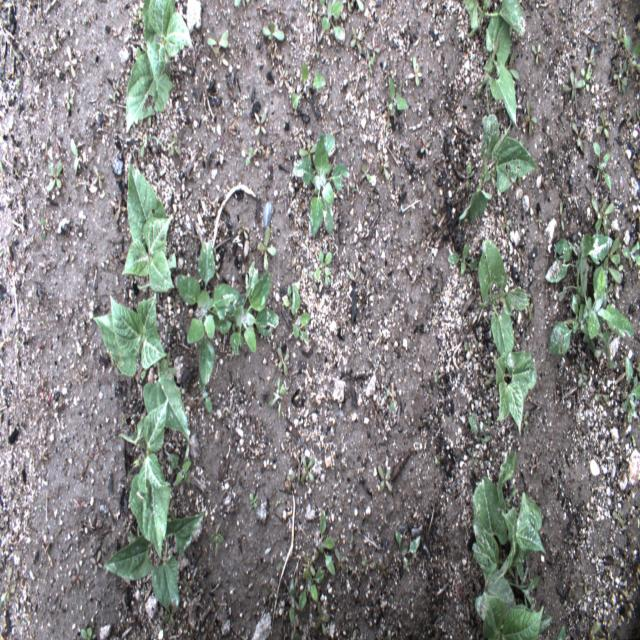crop: (90, 272, 200, 462), (471, 451, 559, 636), (101, 496, 206, 608), (456, 112, 543, 230), (123, 3, 200, 129), (120, 155, 177, 308), (121, 396, 173, 556), (477, 235, 531, 364), (493, 331, 539, 434)
weed: (170, 225, 246, 388), (541, 236, 632, 357), (460, 3, 534, 136), (221, 256, 285, 368), (294, 136, 356, 245), (287, 509, 336, 619), (282, 274, 315, 357), (289, 48, 328, 114), (605, 222, 638, 291), (391, 515, 424, 575), (254, 222, 282, 286), (312, 3, 348, 52), (592, 190, 618, 250), (445, 238, 488, 274), (604, 20, 634, 70), (163, 443, 193, 491), (311, 248, 335, 299), (563, 70, 592, 104), (591, 142, 610, 192), (59, 42, 80, 85), (609, 52, 629, 96), (206, 22, 231, 54), (390, 80, 415, 112), (374, 460, 394, 500), (45, 158, 66, 195), (260, 13, 286, 42), (407, 50, 425, 86), (69, 137, 88, 171), (350, 22, 364, 54), (367, 33, 381, 65), (256, 105, 266, 137)
